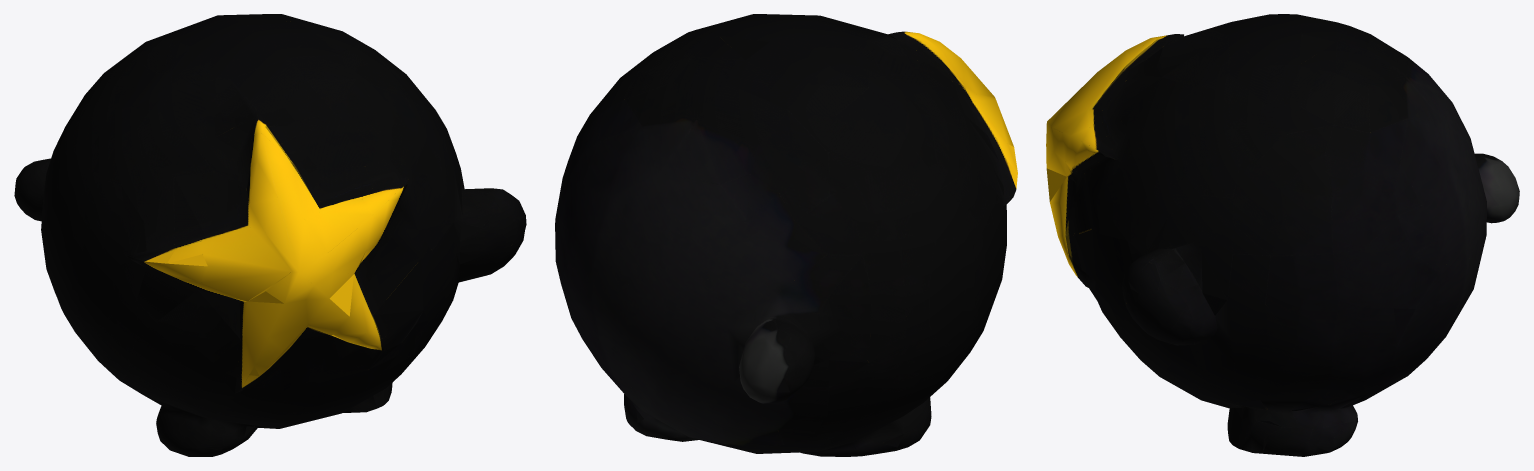
The model's file is Boulet.fbx.
3 renders of one model, left to right at view 1: azimuth 30°, elevation 25°; view 2: azimuth 150°, elevation 25°; view 3: azimuth 270°, elevation 25°, orthographic. The views are drawn at different scales.
Visible parts, largest first — view 1: Mesh_0; view 2: Mesh_0; view 3: Mesh_0.
Part boxes in pixels (x1,y1,x2,y2): Mesh_0: [14, 14, 526, 456]; Mesh_0: [555, 14, 1017, 456]; Mesh_0: [1046, 14, 1519, 456].
Size of the model in its own units: 173 by 161 by 190.
1 material, 1 textured.
